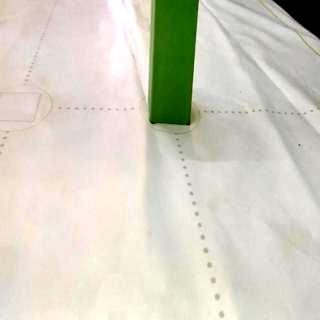greenbox: (148, 0, 199, 125)
